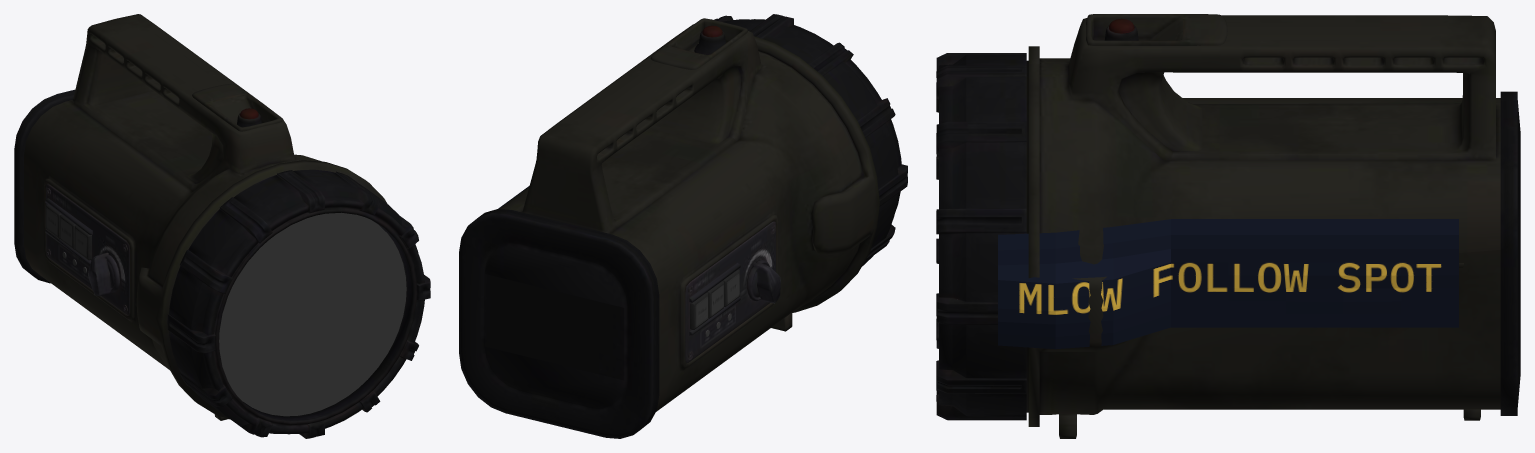
The model's file is u_nyb_nys_spot.glb.
The picture shows the model from 3 angles, left to right: view 1: azimuth 30°, elevation 25°; view 2: azimuth 150°, elevation 25°; view 3: azimuth 270°, elevation 25°; orthographic projection. The views are drawn at different scales.
Parts seen in each view (by area): view 1: portable_searchlight; view 2: portable_searchlight; view 3: portable_searchlight, stk_lbl_43cee50edf.png.
Part boxes in pixels (x1,y1,x2,y2): portable_searchlight: [14, 14, 430, 438]; portable_searchlight: [459, 14, 907, 438]; portable_searchlight: [936, 14, 1520, 438]; stk_lbl_43cee50edf.png: [998, 219, 1458, 349].
Size of the model in its own units: 0.1676 by 0.1853 by 0.2534.
3 materials, 3 textured.
